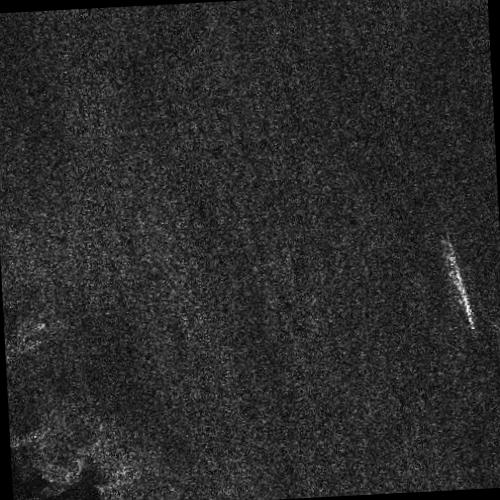ship: (449, 254, 474, 331)
